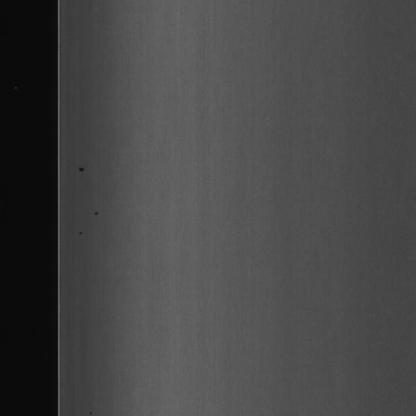inclusion: (92, 200, 102, 220), (76, 222, 86, 238)
oil_spot: (75, 159, 89, 178)
